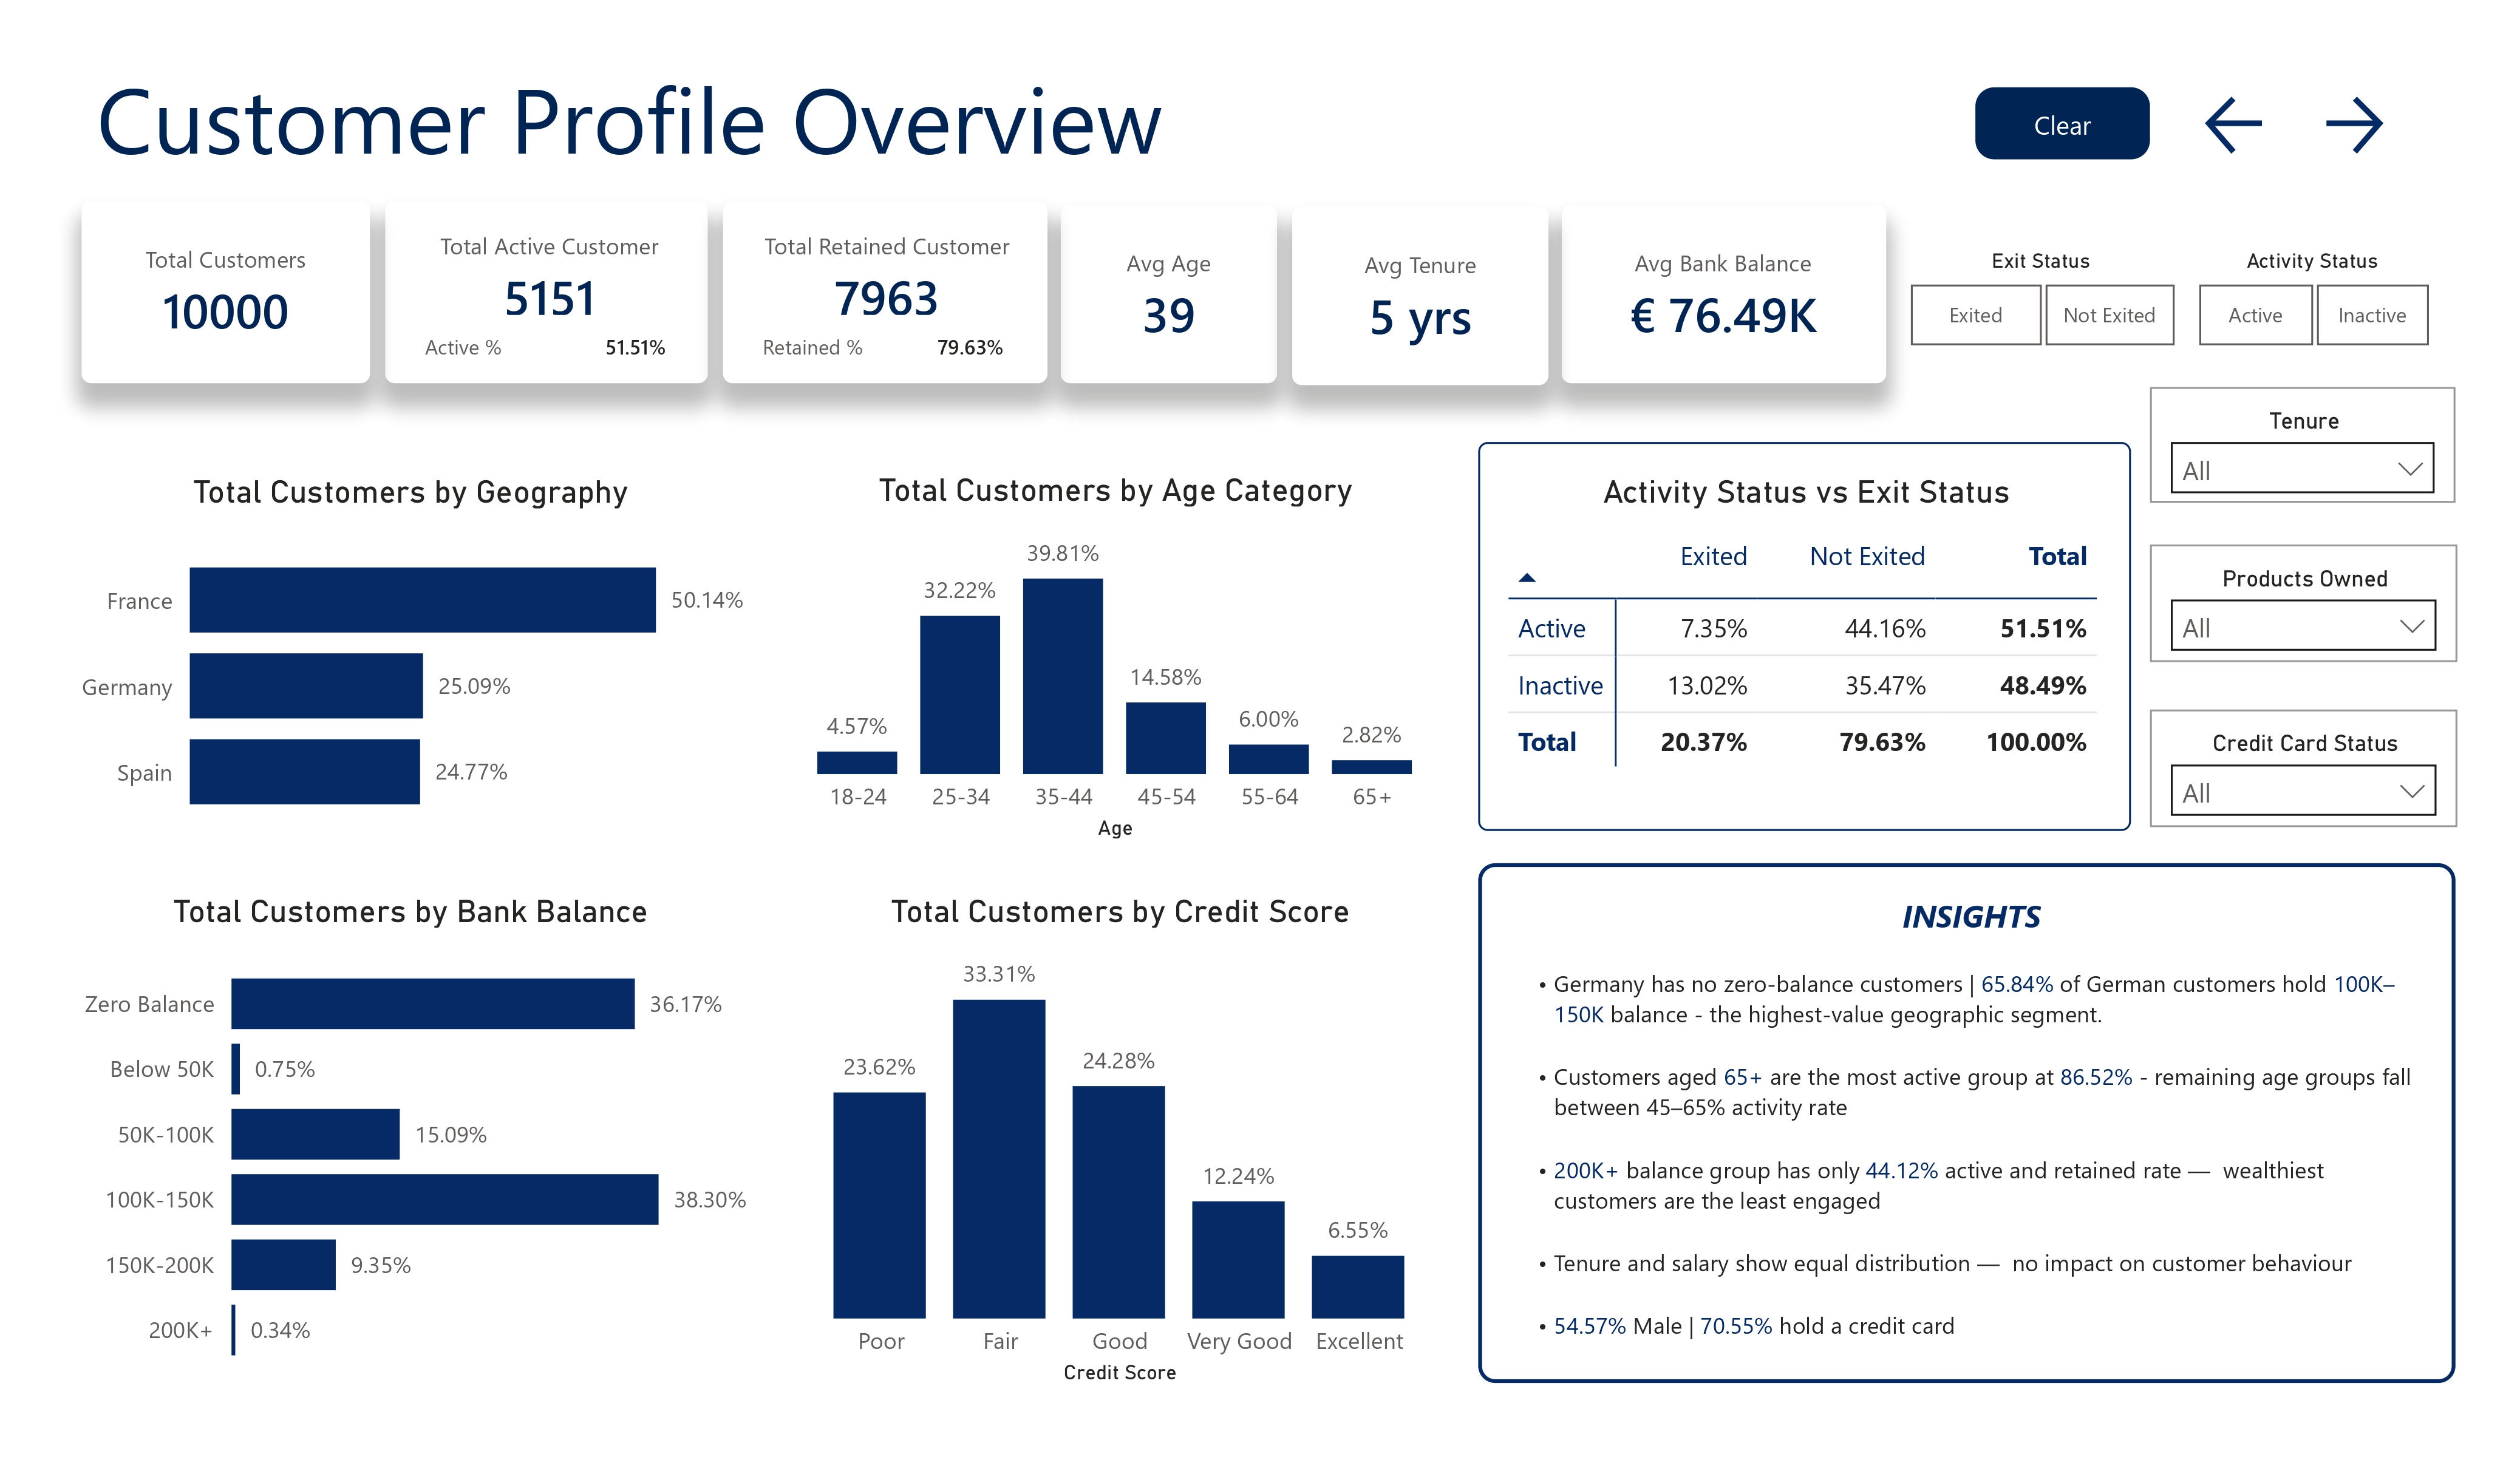

The dashboard page shown, as its layout file describes it:
{"tool":"powerbi","page":{"name":"1","canvas":[1280,720],"ordinal":0},"visuals":[{"type":"clusteredColumnChart","title":"Total Customers by Age Category","fields":{"Category":["BANK_DATA.AGE_BUCKET"],"Y":["CountNonNull(BANK_DATA.CUSTOMERID)"]},"box":[370.3,208.7,387.9,224.8],"z":0},{"type":"clusteredBarChart","title":"Total Customers by Geography","fields":{"Category":["BANK_DATA.GEOGRAPHY"],"Y":["CountNonNull(BANK_DATA.CUSTOMERID)"]},"box":[0,210.1,385,224.8],"z":1000},{"type":"textbox","box":[22,0,652.4,82.3],"z":2000},{"type":"slicer","title":"Activity Status","fields":{"Values":["BANK_DATA.ACTIVE_STATUS"]},"box":[1109.4,97,170.4,67.6],"z":3000},{"type":"actionButton","box":[1016.8,22,92.6,38.2],"z":4000},{"type":"cardVisual","fields":{"Data":["BANK_DATA.Total Active Customer"]},"box":[178.7,82.3,170.4,95.5],"z":5000},{"type":"cardVisual","fields":{"Data":["BANK_DATA.Avg Age"]},"box":[534.9,83.8,114.6,94],"z":6000},{"type":"cardVisual","fields":{"Data":["Count(BANK_DATA.CUSTOMERID)"]},"box":[19.1,82.3,152,95.5],"z":7000},{"type":"cardVisual","fields":{"Data":["BANK_DATA.Total Retained Customer"]},"box":[357.1,82.3,170.4,95.5],"z":8000},{"type":"pivotTable","title":"Activity Status vs Exit Status","fields":{"Rows":["BANK_DATA.ACTIVE_STATUS"],"Columns":["BANK_DATA.EXIT_STATUS"],"Values":["Min(BANK_DATA.CUSTOMERID)"]},"box":[755.3,208.7,343.8,205.7],"z":9000},{"type":"cardVisual","fields":{"Data":["BANK_DATA.Avg Balance"]},"box":[799.3,83.8,170.4,94],"z":10000},{"type":"slicer","title":"Exit Status","fields":{"Values":["BANK_DATA.EXIT_STATUS"]},"box":[956.6,97,189.6,67.6],"z":11000},{"type":"slicer","title":"Tenure","fields":{"Values":["BANK_DATA.TENURE"]},"box":[1109.4,179.7,160.2,61.7],"z":12000},{"type":"slicer","title":"Products Owned","fields":{"Values":["BANK_DATA.PRODUCT_BUCKET"]},"box":[1109.4,263.4,161.6,61.7],"z":13000},{"type":"slicer","title":"Credit Card Status","fields":{"Values":["BANK_DATA.CR_CARD_STATUS"]},"box":[1109.4,350.1,161.6,61.7],"z":14000},{"type":"textbox","box":[755.3,430.5,514.3,274.8],"z":15000},{"type":"clusteredBarChart","title":"Total Customers by Bank Balance","fields":{"Category":["BANK_DATA.BALANCE_BUCKET"],"Y":["Divide(CountNonNull(BANK_DATA.CUSTOMERID), ScopedEval(CountNonNull(BANK_DATA.CUSTOMERID), []))"]},"box":[0,430.5,385,289.5],"z":16000},{"type":"clusteredColumnChart","title":"Total Customers by Credit Score","fields":{"Category":["BANK_DATA.CREDITSCORE_BUCKET"],"Y":["CountNonNull(BANK_DATA.CUSTOMERID)"]},"box":[374.7,430.5,383.5,289.5],"z":17000},{"type":"cardVisual","fields":{"Data":["BANK_DATA.Avg Tenure"]},"box":[656.8,85.2,135.2,94],"z":18000},{"type":"actionButton","box":[1134.4,22,61.7,39.7],"z":19000},{"type":"actionButton","box":[1196.1,22,58.8,39.7],"z":20000}]}

Visuals, with their boxes on the page's 1280x720 design canvas (x1, y1, x2, y2). These are canvas units, not pixel positions in the 2520x1457 screenshot, which may show the page scaled, cropped or inside an application window:
"Total Customers by Age Category" clusteredColumnChart: BBox(370, 209, 758, 434)
"Total Customers by Geography" clusteredBarChart: BBox(0, 210, 385, 435)
textbox: BBox(22, 0, 674, 82)
"Activity Status" slicer: BBox(1109, 97, 1280, 165)
actionButton: BBox(1017, 22, 1109, 60)
cardVisual - BANK_DATA.Total Active Customer: BBox(179, 82, 349, 178)
cardVisual - BANK_DATA.Avg Age: BBox(535, 84, 650, 178)
cardVisual - Count(BANK_DATA.CUSTOMERID): BBox(19, 82, 171, 178)
cardVisual - BANK_DATA.Total Retained Customer: BBox(357, 82, 528, 178)
"Activity Status vs Exit Status" pivotTable: BBox(755, 209, 1099, 414)
cardVisual - BANK_DATA.Avg Balance: BBox(799, 84, 970, 178)
"Exit Status" slicer: BBox(957, 97, 1146, 165)
"Tenure" slicer: BBox(1109, 180, 1270, 241)
"Products Owned" slicer: BBox(1109, 263, 1271, 325)
"Credit Card Status" slicer: BBox(1109, 350, 1271, 412)
textbox: BBox(755, 430, 1270, 705)
"Total Customers by Bank Balance" clusteredBarChart: BBox(0, 430, 385, 720)
"Total Customers by Credit Score" clusteredColumnChart: BBox(375, 430, 758, 720)
cardVisual - BANK_DATA.Avg Tenure: BBox(657, 85, 792, 179)
actionButton: BBox(1134, 22, 1196, 62)
actionButton: BBox(1196, 22, 1255, 62)
